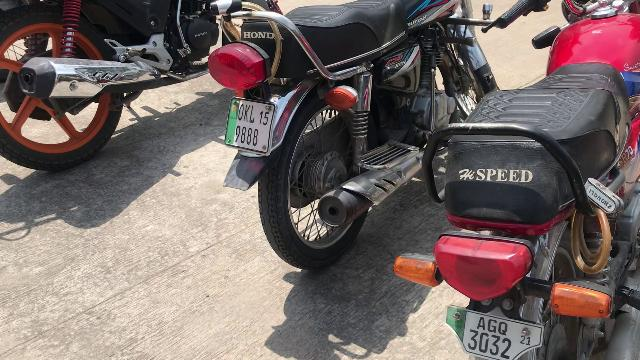plate: (223, 96, 277, 152)
